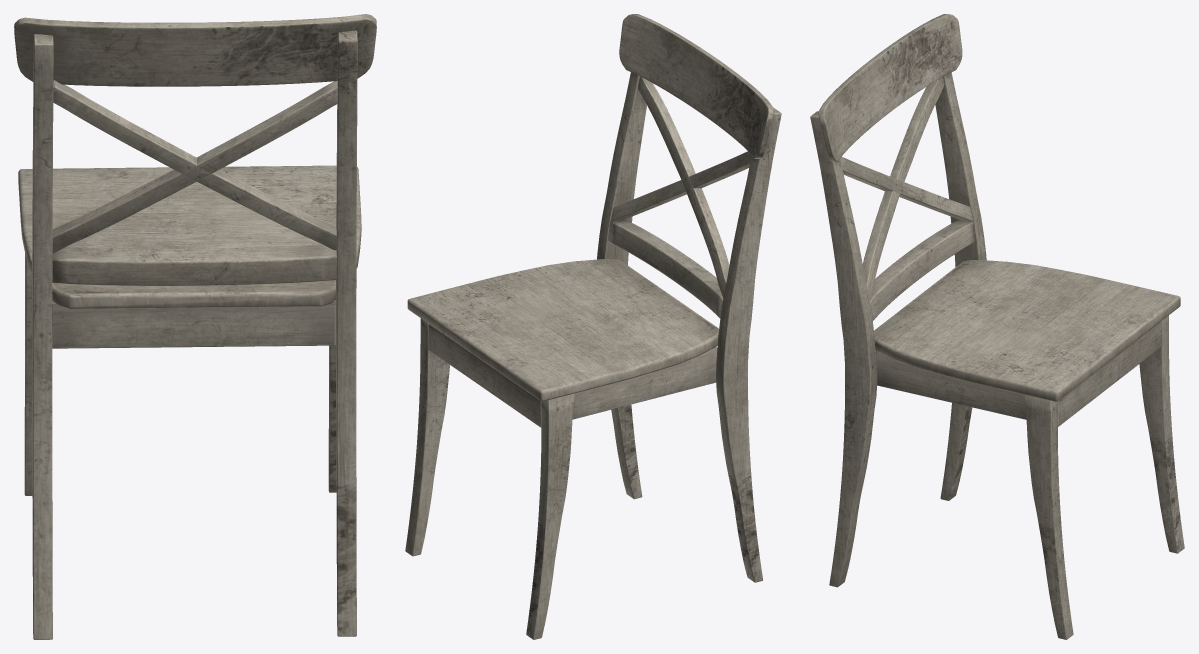
Rendered from country_style_chair.glb.
The picture shows the model from 3 angles, left to right: view 1: azimuth 30°, elevation 25°; view 2: azimuth 150°, elevation 25°; view 3: azimuth 270°, elevation 25°; orthographic projection. The views are drawn at different scales.
Visible parts, largest first — view 1: Object_2; view 2: Object_2; view 3: Object_2.
Part boxes in pixels (box(x1,y1,x2,y2)): Object_2: box(14, 14, 376, 639); Object_2: box(405, 14, 781, 639); Object_2: box(810, 14, 1184, 639).
Bounding box in the file's own units: 4.67 × 6.77 × 4.82.
1 material, 1 textured.
